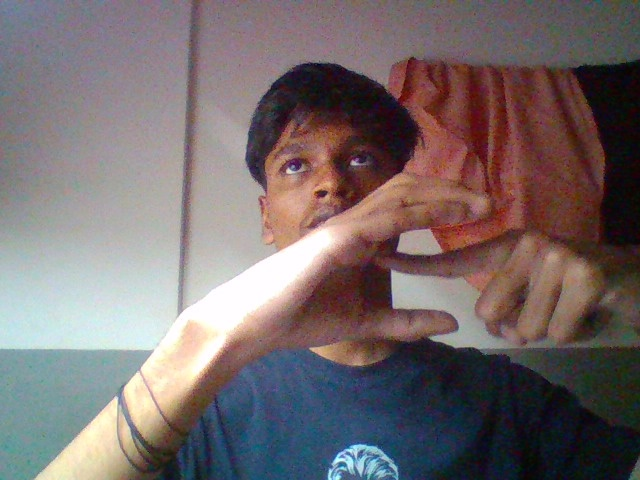E: (180, 134, 618, 394)
